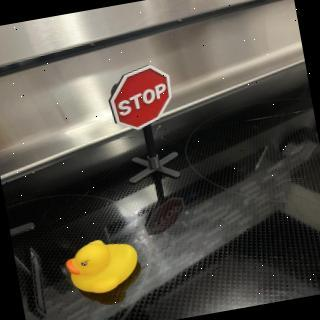duck_regular: (62, 233, 147, 304)
sign_stop: (104, 61, 182, 138)
